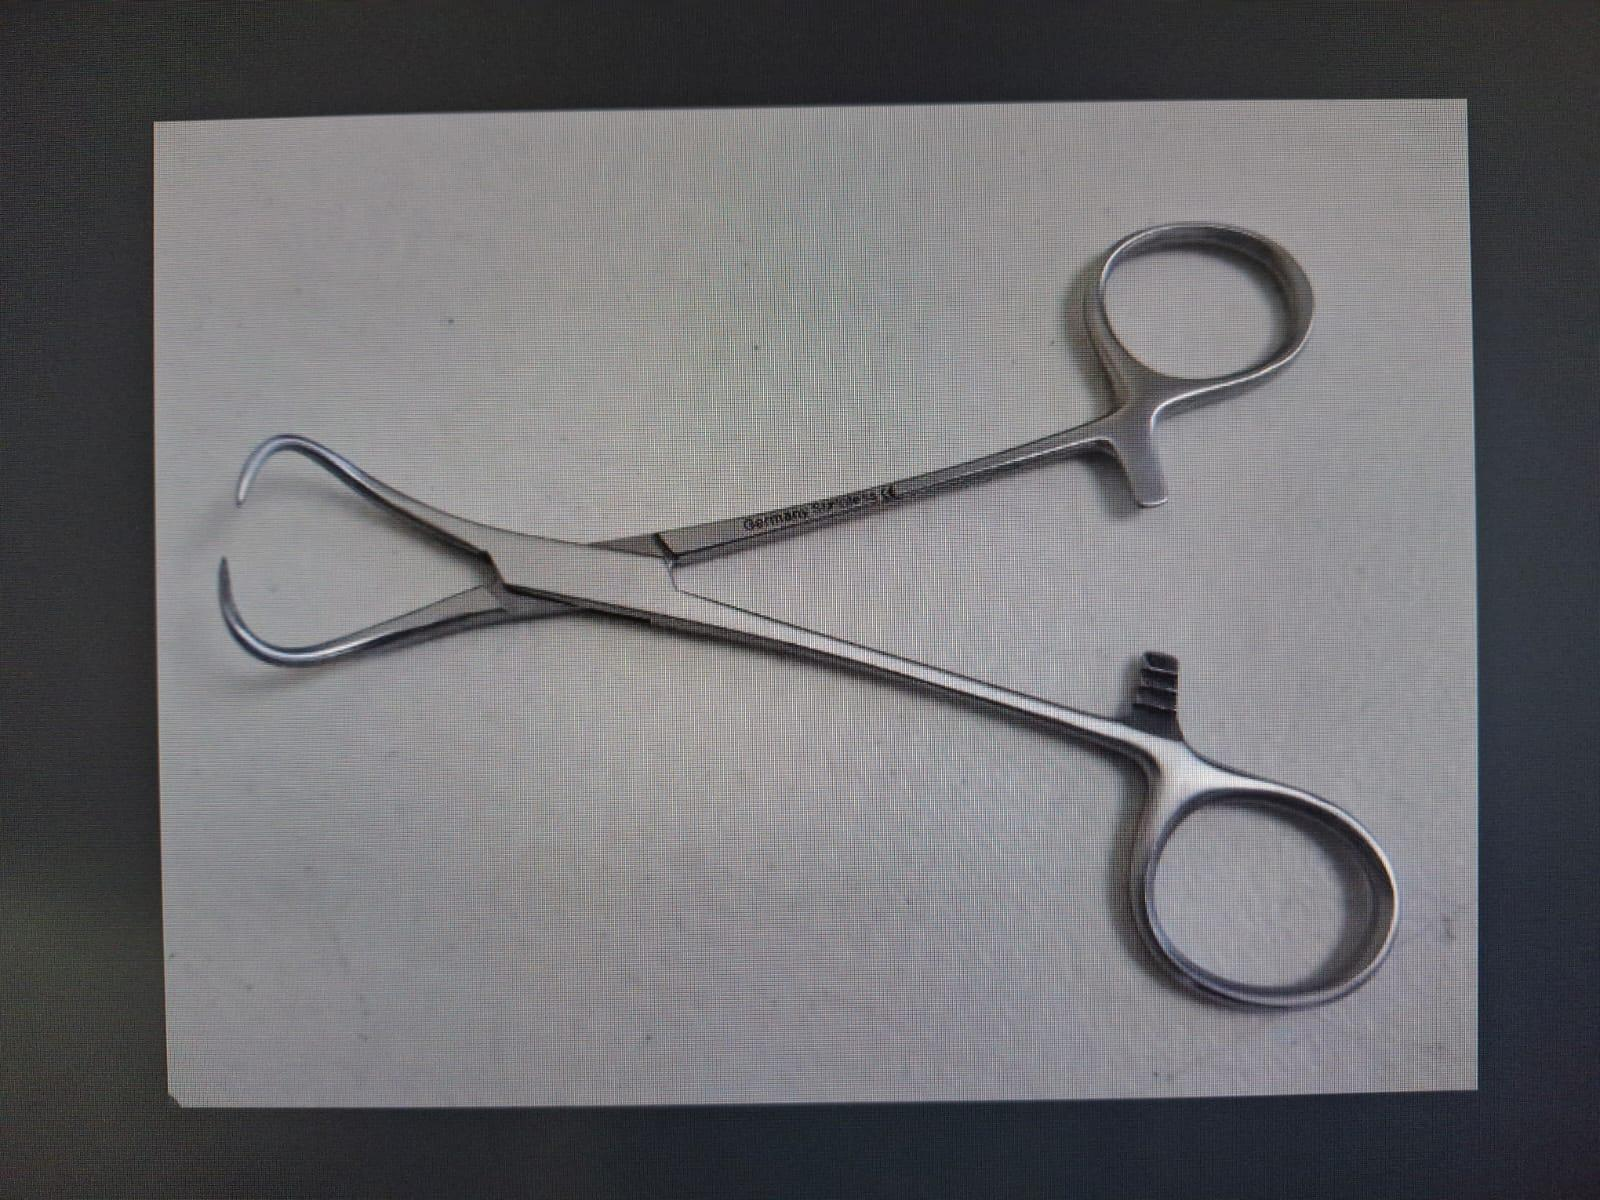Backhaus: (210, 208, 1432, 1026)
